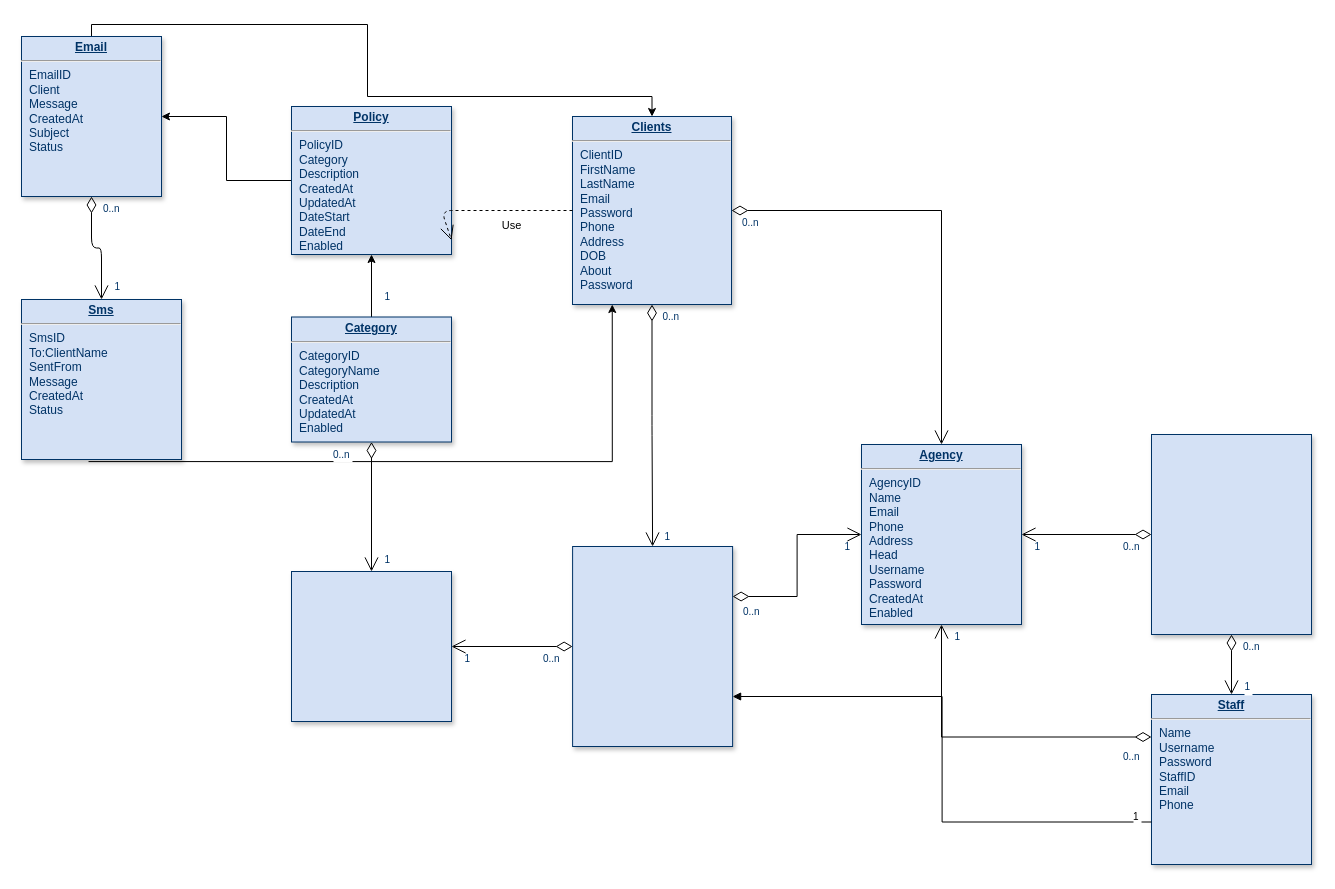
The diagram is 1335 pixels wide and 889 high, and some of its shapes have lost their labels. Each missing label, with the centre of its shape:
"Client IdClient IdCompany Name Description CreatedAt UpdatedAt Enabled" belongs at (x=372, y=647).
"Company CompanyName" belongs at (x=653, y=648).
"User ID Username Email Password Phone" belongs at (x=1232, y=536).
